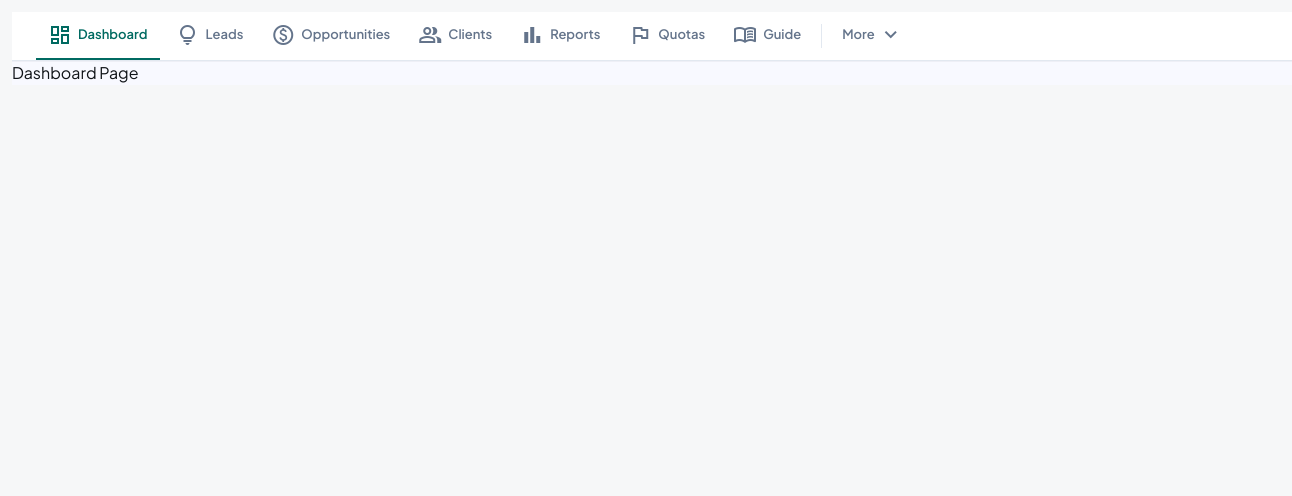
Test: CrmLayout › shows the more menu for admin CRM routes
Click the button "More" at [872, 36], box 830,12 -> 915,60
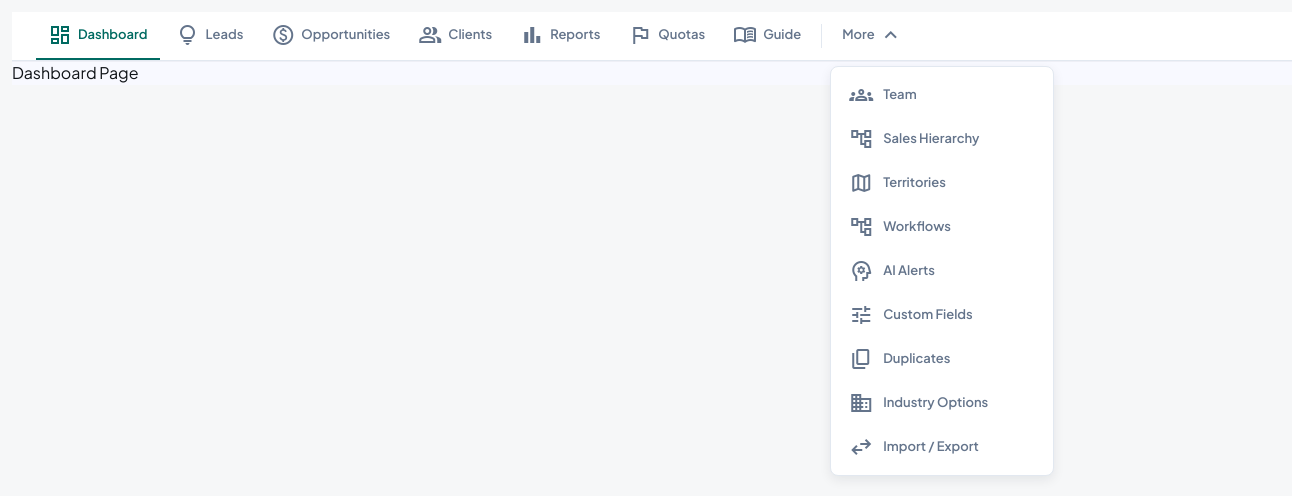
Check: the link "Import / Export" is shown, box 849,433 -> 979,461
